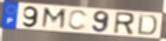9: (21, 5, 41, 29), (91, 10, 111, 34)
C: (66, 9, 89, 32)
D: (137, 13, 159, 37)
M: (40, 6, 68, 31)
R: (112, 11, 136, 36)
